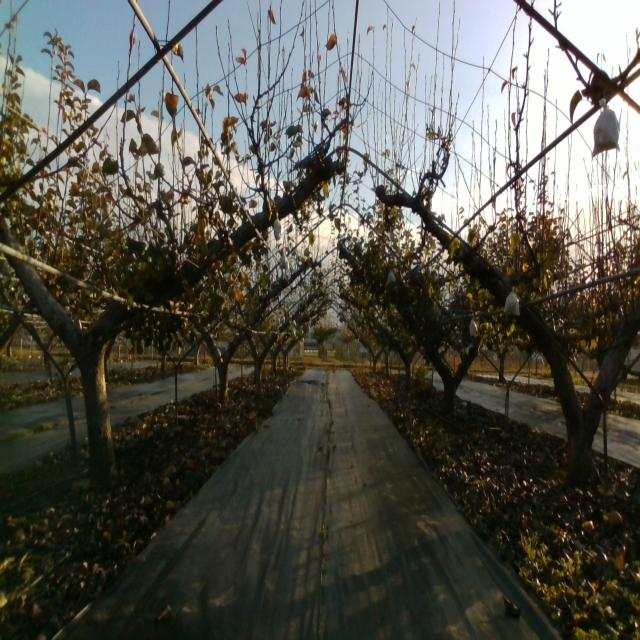pearbags: (591, 97, 621, 157), (502, 285, 520, 317)
